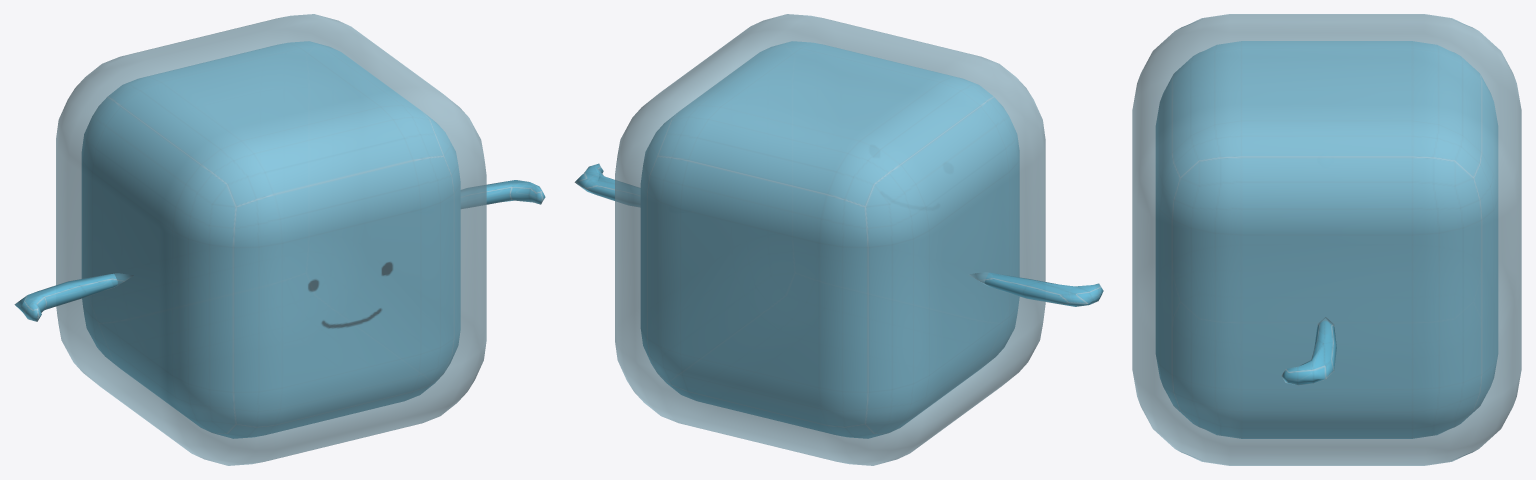
The model's file is Blue_Slimey.fbx.
3 views of the same model, side by side, from view 1: azimuth 30°, elevation 25°; view 2: azimuth 150°, elevation 25°; view 3: azimuth 270°, elevation 25° (orthographic). The views are drawn at different scales.
Visible parts, largest first — view 1: pCube4; view 2: pCube4; view 3: pCube4.
Boxes of the visible parts, x1,y1,x2,y2 form: pCube4: (14,14,545,465); pCube4: (574,14,1103,465); pCube4: (1132,14,1521,465).
Bounding box in the file's own units: 2.22 × 1.36 × 1.36.
2 materials, 1 textured.
